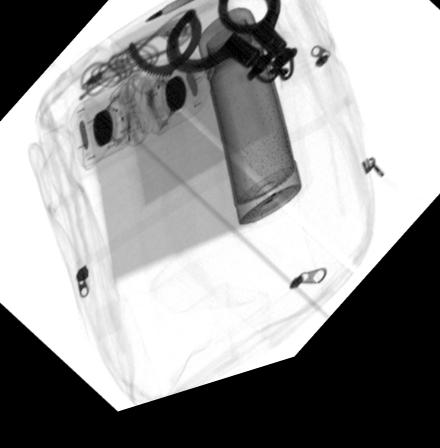Bullet: (144, 0, 199, 29)
HandCuffs: (123, 0, 298, 103)
